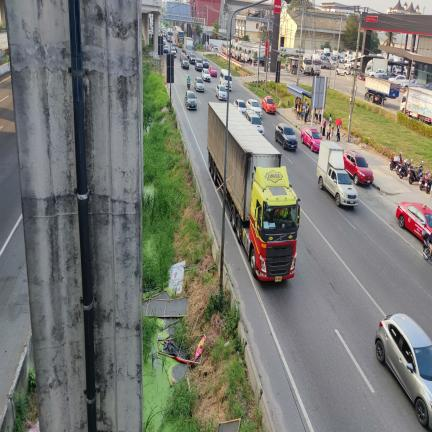bus: (174, 26, 184, 47)
car: (375, 314, 432, 428), (343, 150, 374, 185), (275, 123, 298, 150), (246, 99, 262, 117), (185, 91, 197, 109), (215, 84, 227, 101), (233, 99, 246, 114), (388, 75, 406, 84), (194, 77, 204, 92), (369, 69, 385, 78), (201, 69, 211, 82), (379, 71, 392, 80), (181, 55, 189, 69), (195, 58, 203, 71), (202, 58, 209, 69), (189, 53, 196, 64), (163, 45, 169, 53)
human: (297, 100, 301, 119), (306, 104, 310, 122), (322, 118, 326, 135), (337, 125, 341, 141), (330, 126, 334, 141), (313, 109, 317, 124), (305, 103, 308, 122), (302, 102, 305, 119), (327, 123, 330, 140), (315, 109, 318, 124), (319, 109, 322, 123), (331, 127, 334, 141), (187, 76, 190, 88), (329, 114, 332, 125), (295, 97, 297, 110), (193, 44, 195, 50)
motorbike: (408, 161, 423, 184), (422, 230, 432, 261), (398, 159, 410, 179), (390, 151, 402, 170), (419, 171, 430, 190), (396, 159, 407, 175), (425, 173, 432, 194), (187, 80, 191, 90), (397, 171, 397, 172), (412, 160, 412, 161)
taxi: (396, 202, 432, 241), (301, 128, 323, 151), (262, 96, 276, 114), (208, 65, 218, 77)
truck: (226, 104, 300, 282), (316, 141, 358, 206), (207, 102, 227, 185), (400, 87, 432, 124), (183, 37, 194, 57)
